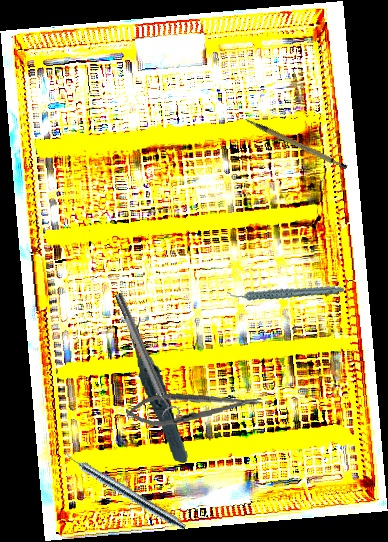Fixation Ring: (109, 289, 182, 424)
Handpiece: (58, 446, 190, 533), (226, 266, 345, 317)
Needle Holder: (124, 385, 264, 430)
Scalpel Handle: (244, 102, 349, 183)
Tissue Forceps: (128, 313, 190, 467)
